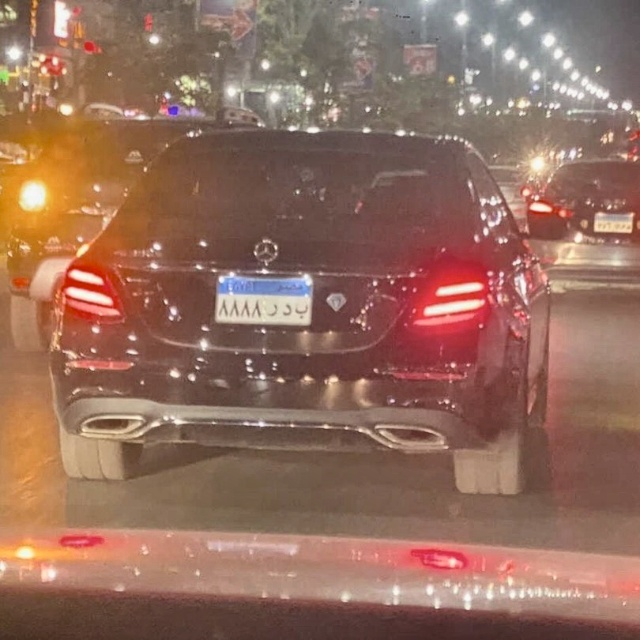License Plate: (215, 276, 313, 322)
